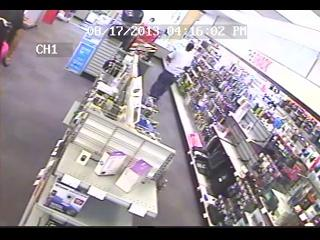Normal: (142, 41, 196, 108), (0, 11, 25, 66)
